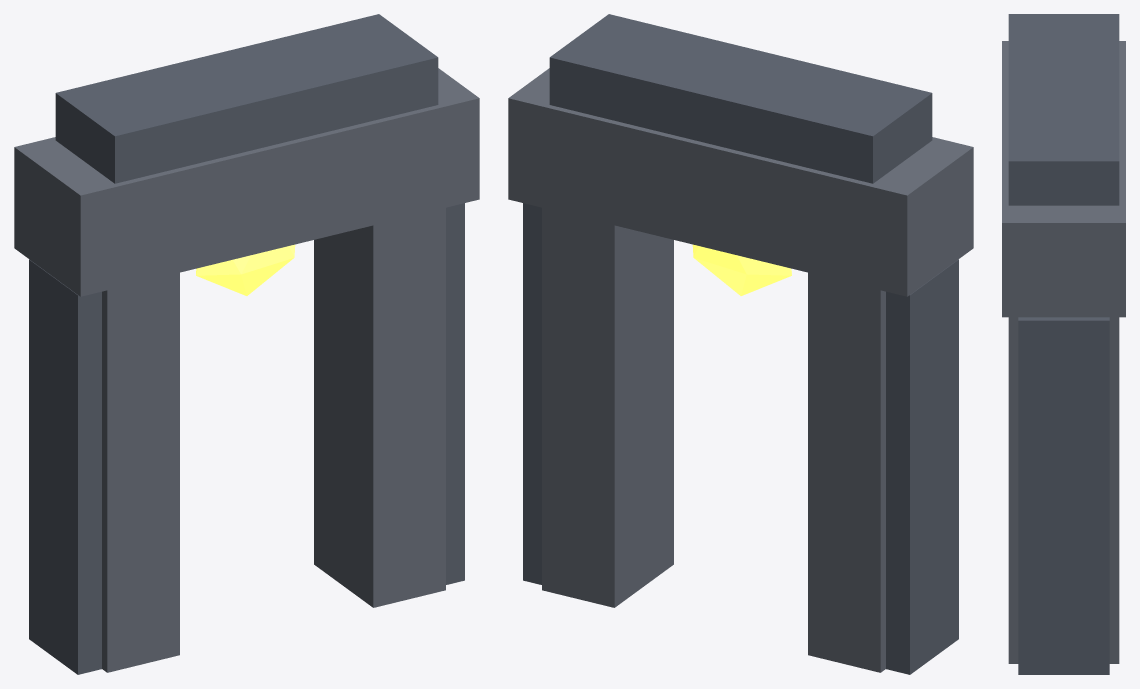
Rendered from alien_gate.glb.
3 views of the same model, side by side, from view 1: azimuth 30°, elevation 25°; view 2: azimuth 150°, elevation 25°; view 3: azimuth 270°, elevation 25° (orthographic). The views are drawn at different scales.
Visible parts, largest first — view 1: Cube.006, Cube.003, Cube.007, Cube, Cube.001, Cube.004, Icosphere; view 2: Cube.006, Cube.003, Cube.007, Cube, Cube.001, Cube.004, Icosphere; view 3: Cube.004, Cube.007, Cube.006, Cube.003.
Part boxes in pixels (<box>): Cube.006: <box>14,68,479,296</box>; Cube.003: <box>314,207,445,607</box>; Cube.007: <box>55,14,438,183</box>; Cube: <box>102,272,179,672</box>; Cube.001: <box>29,259,101,674</box>; Cube.004: <box>446,203,464,584</box>; Icosphere: <box>196,244,295,295</box>; Cube.006: <box>508,68,973,296</box>; Cube.003: <box>542,207,673,607</box>; Cube.007: <box>549,14,932,183</box>; Cube: <box>808,272,885,672</box>; Cube.001: <box>886,259,958,674</box>; Cube.004: <box>523,203,541,584</box>; Icosphere: <box>692,244,791,295</box>; Cube.004: <box>1018,317,1109,674</box>; Cube.007: <box>1008,14,1119,205</box>; Cube.006: <box>1002,41,1125,317</box>; Cube.003: <box>1008,317,1119,663</box>.
Bounding box in the file's own units: 13.2 × 16.9 × 3.8.
